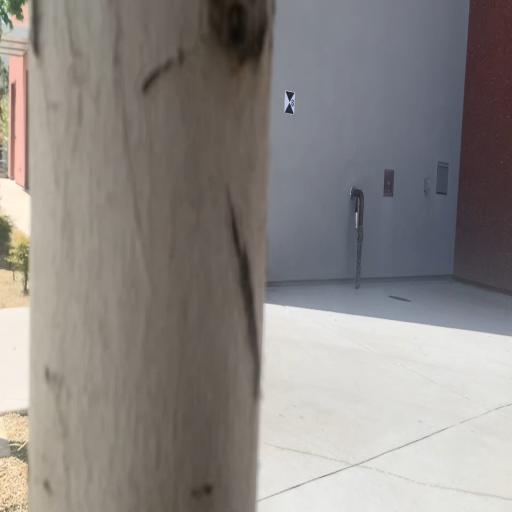target8: (284, 91, 295, 115)
